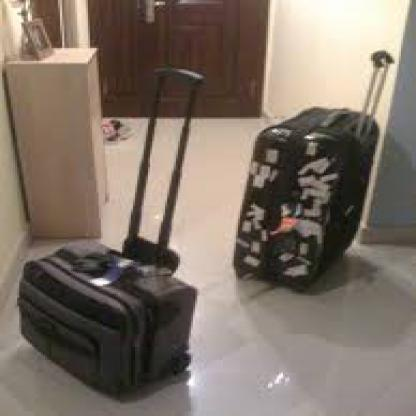maleta: (13, 220, 223, 402), (236, 94, 390, 296)
